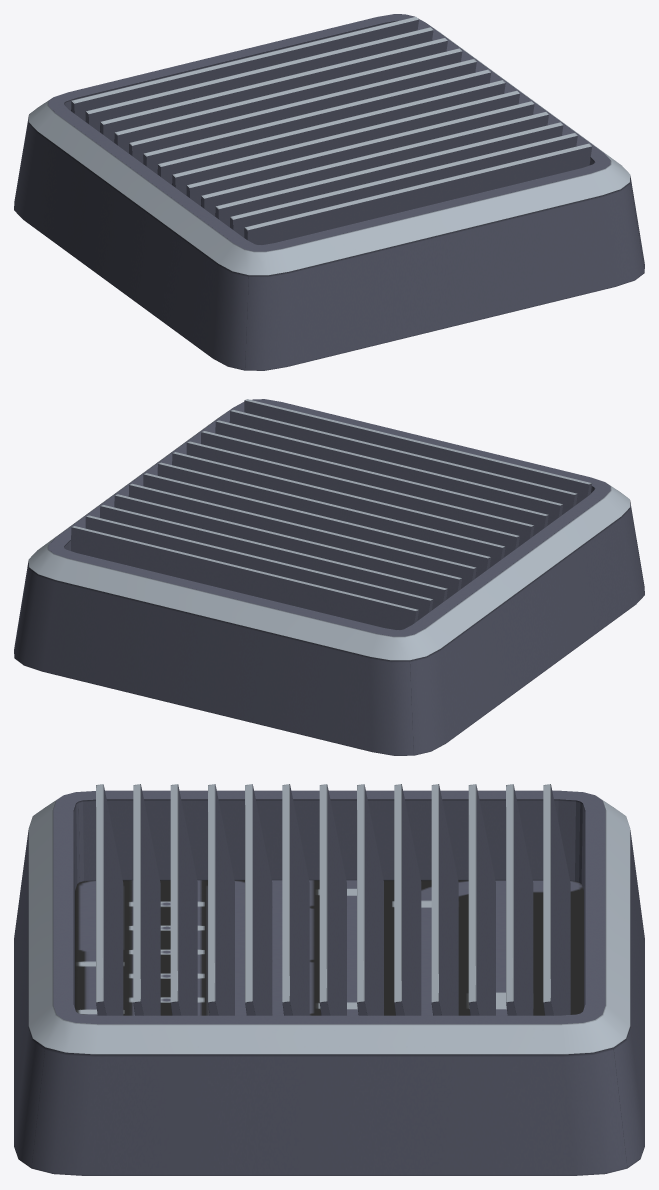
File: Air_Grid_01.FBX
3 views of the same model, one above another, from view 1: azimuth 30°, elevation 25°; view 2: azimuth 150°, elevation 25°; view 3: azimuth 270°, elevation 25° (orthographic). The views are drawn at different scales.
Visible parts, largest first — view 1: Air_Grid_01; view 2: Air_Grid_01; view 3: Air_Grid_01.
Part boxes in pixels (box(x1,y1,x2,y2)): Air_Grid_01: box(14, 14, 644, 370); Air_Grid_01: box(14, 399, 644, 755); Air_Grid_01: box(14, 784, 644, 1175).
Bounding box in the file's own units: 4.23 × 1.11 × 4.23.
